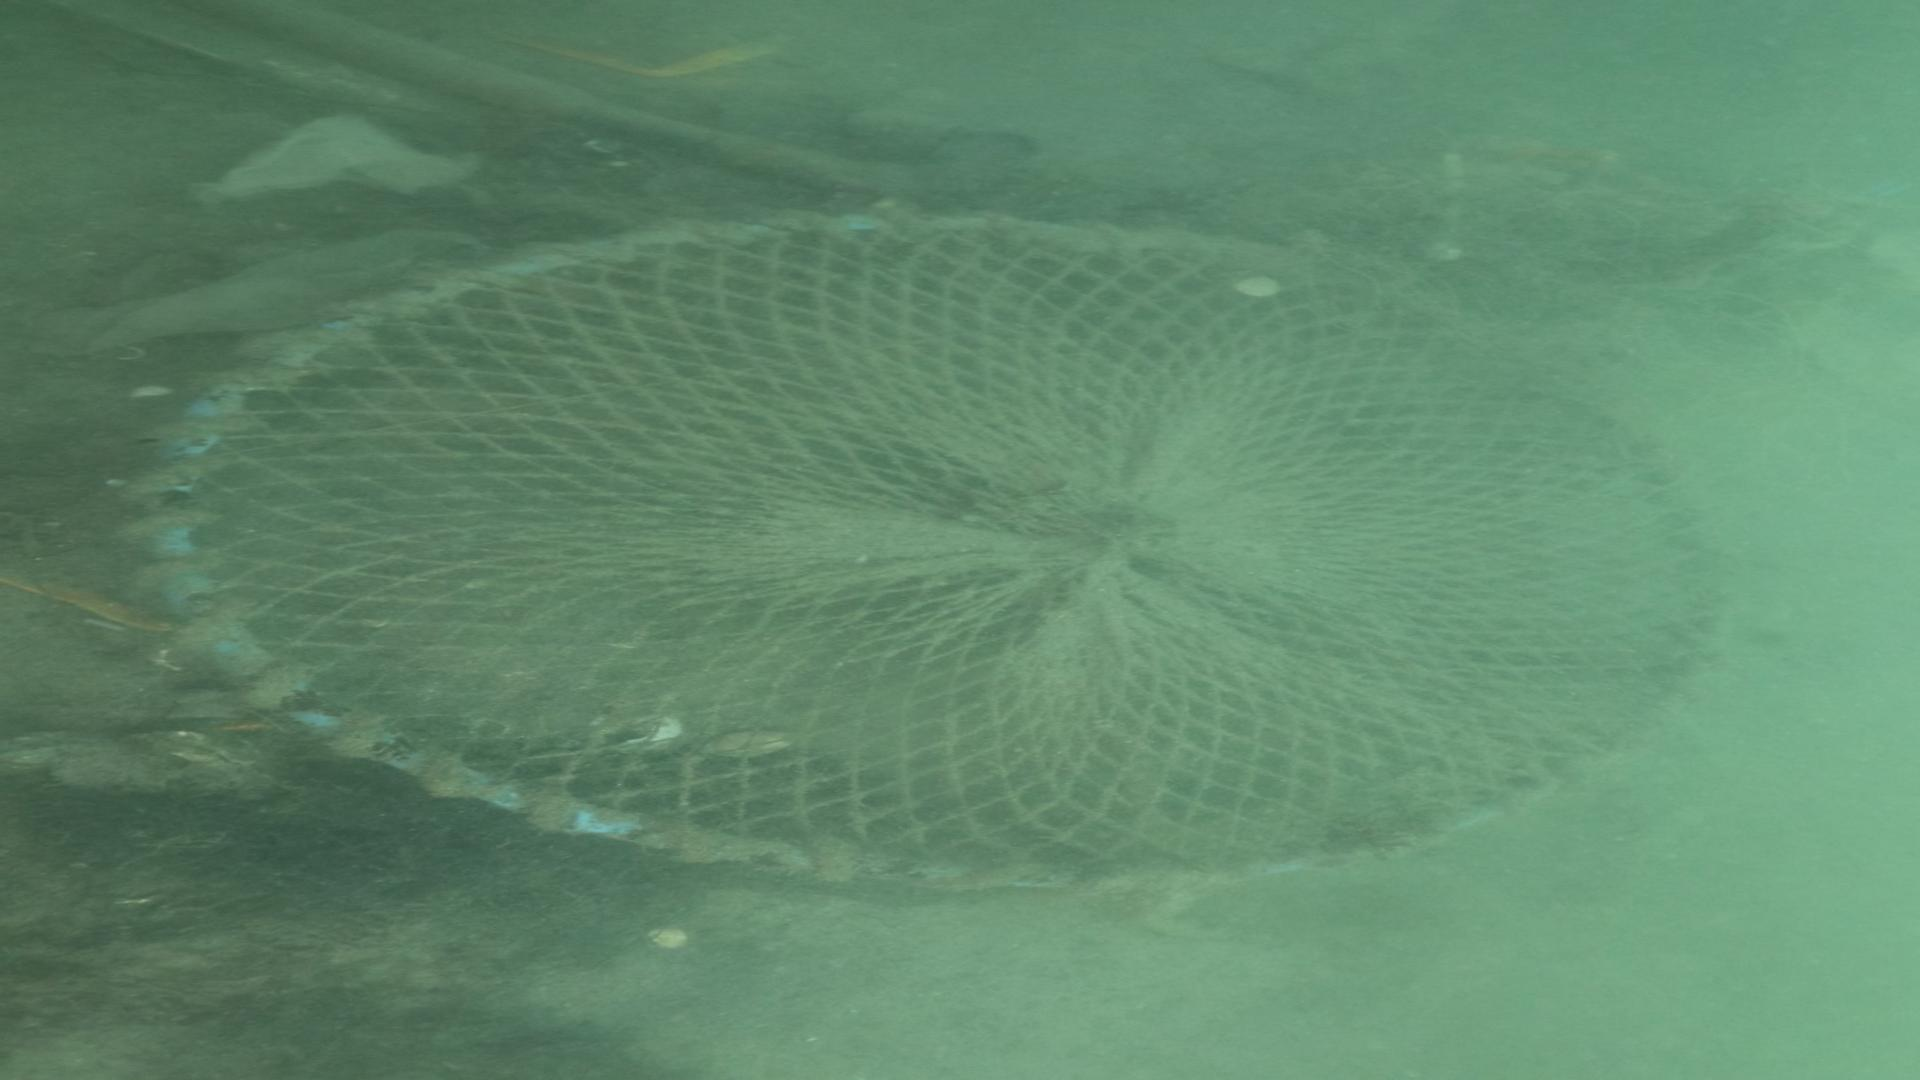circular fish trap: (148, 210, 1725, 893)
